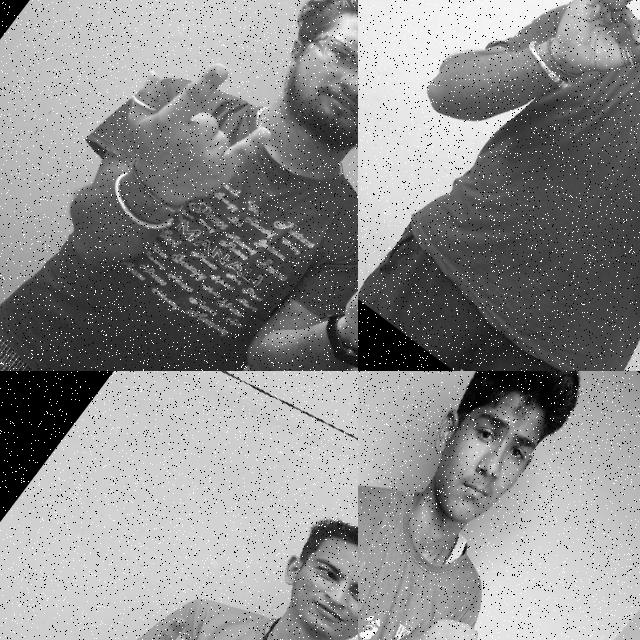Corna: (76, 18, 300, 244), (113, 605, 244, 640)
Dulya: (358, 587, 496, 640)
Okay: (529, 0, 640, 113)
